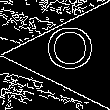O_S: (49, 29, 98, 81)
